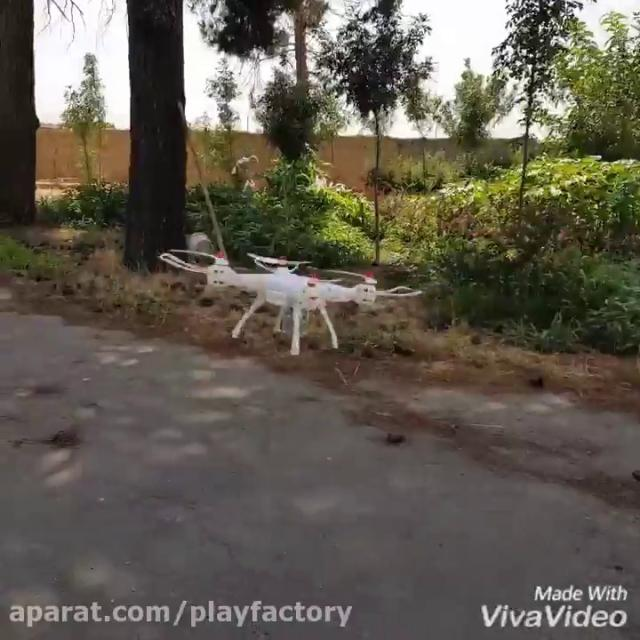drone: (155, 247, 422, 356)
